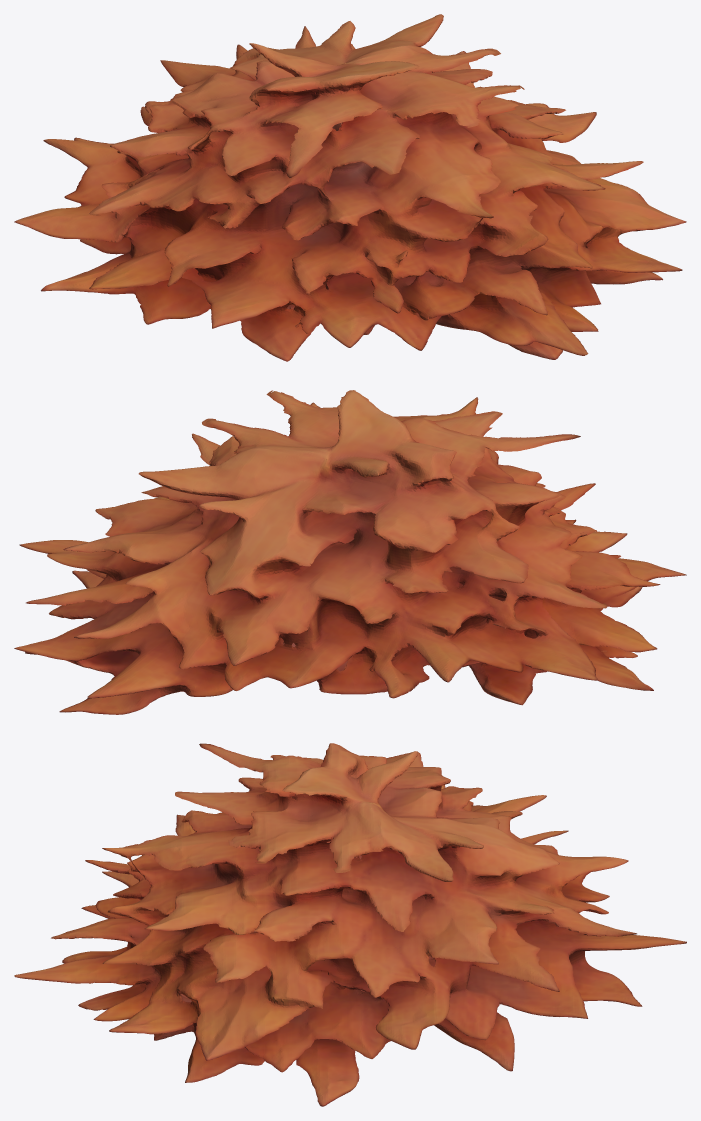
Rendered from scatter_leaves.glb.
3 views of the same model, one above another, from view 1: azimuth 30°, elevation 25°; view 2: azimuth 150°, elevation 25°; view 3: azimuth 270°, elevation 25° (orthographic). The views are drawn at different scales.
Parts seen in each view (by area): view 1: world; view 2: world; view 3: world.
Boxes of the visible parts, x1,y1,x2,y2 form: world: (14,14,686,361); world: (14,390,686,714); world: (14,743,686,1106).
Bounding box in the file's own units: 0.9289 × 0.3374 × 1.
